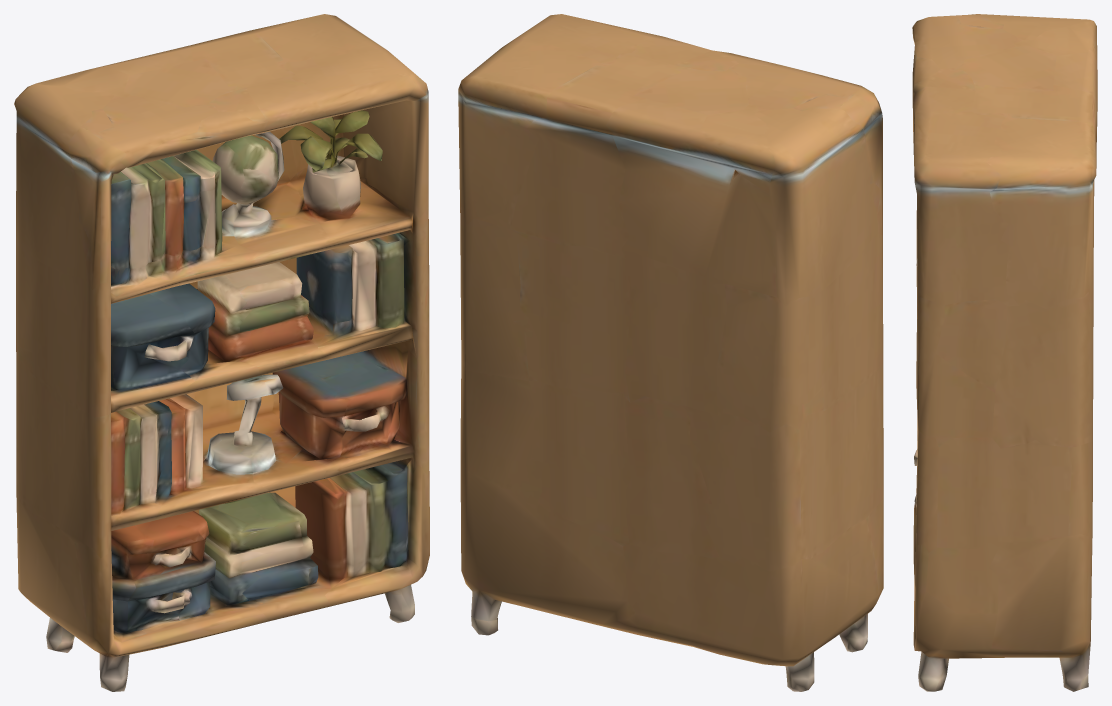
Rendered from bookshelf.low.glb.
The picture shows the model from 3 angles, left to right: view 1: azimuth 30°, elevation 25°; view 2: azimuth 150°, elevation 25°; view 3: azimuth 270°, elevation 25°; orthographic projection. The views are drawn at different scales.
Parts seen in each view (by area): view 1: tripo_node_c3d11c1c-dbd2-4693-8c50-616202747c64; view 2: tripo_node_c3d11c1c-dbd2-4693-8c50-616202747c64; view 3: tripo_node_c3d11c1c-dbd2-4693-8c50-616202747c64.
Boxes of the visible parts, bbox=[...] form: tripo_node_c3d11c1c-dbd2-4693-8c50-616202747c64: bbox=[14, 14, 429, 691]; tripo_node_c3d11c1c-dbd2-4693-8c50-616202747c64: bbox=[458, 14, 883, 691]; tripo_node_c3d11c1c-dbd2-4693-8c50-616202747c64: bbox=[912, 14, 1097, 691].
Size of the model in its own units: 1.1 by 1.7 by 0.5324.
1 material, 1 textured.
